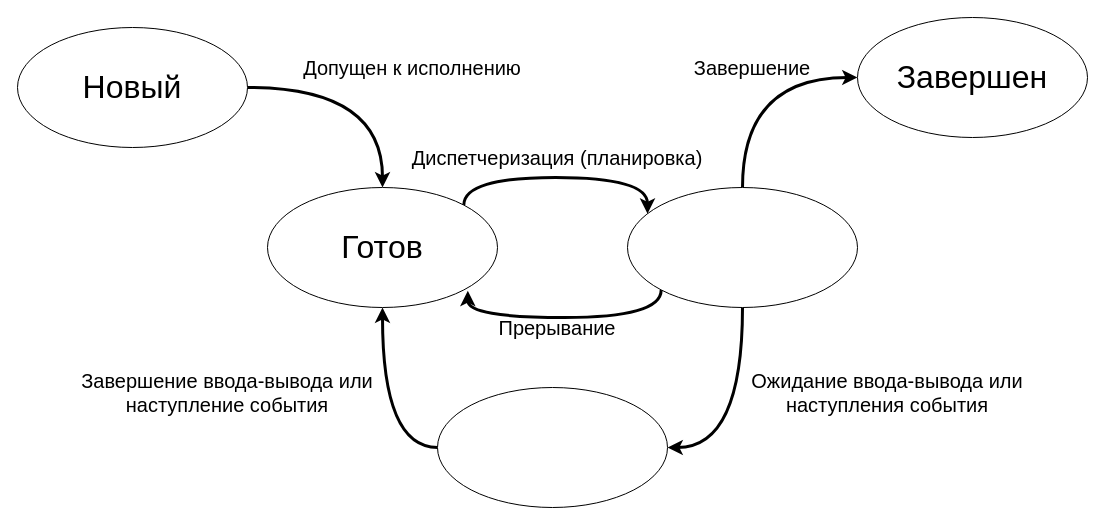
Image size: 1105x525. Some labels were removed from this diagram. The centre of each missing label's shape, as x and y in pixels:
Ждёт: (x=552, y=447)
Исполняется: (x=742, y=247)
